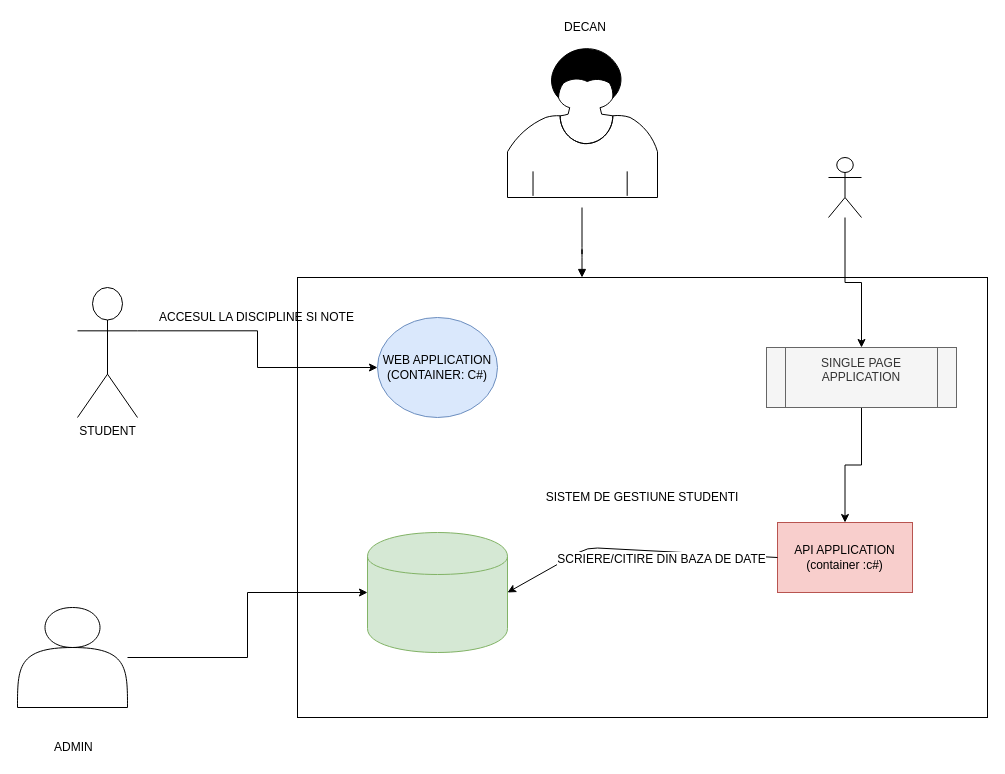
Image size: 1005x774. Some labels were removed from this diagram. Here are the shapes that lost their labels. From the top down, the centre of each, then its label:
At [845,187]: "USER LOGIN".
At [437,592]: "LISTA DISCIPLINELOR SI NOTELE STUDENTILOR".
